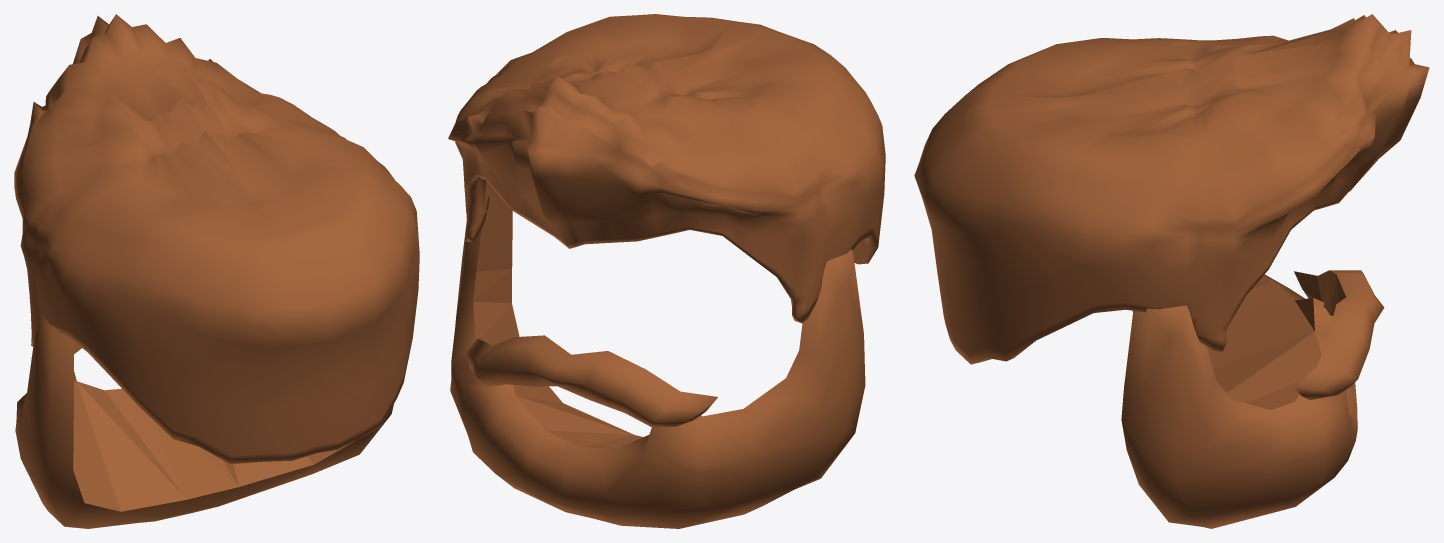
File: acc.glb
The picture shows the model from 3 angles, left to right: view 1: azimuth 30°, elevation 25°; view 2: azimuth 150°, elevation 25°; view 3: azimuth 270°, elevation 25°; orthographic projection. The views are drawn at different scales.
Parts seen in each view (by area): view 1: Handle.001, Handle; view 2: Handle.001, Handle; view 3: Handle.001, Handle.
Boxes of the visible parts, x1,y1,x2,y2 form: Handle.001: (14,14,419,464); Handle: (15,313,393,528); Handle.001: (448,14,885,323); Handle: (450,181,865,528); Handle.001: (914,14,1429,364); Handle: (1121,270,1384,528).
Size of the model in its own units: 1.35 by 1.62 by 1.59.
